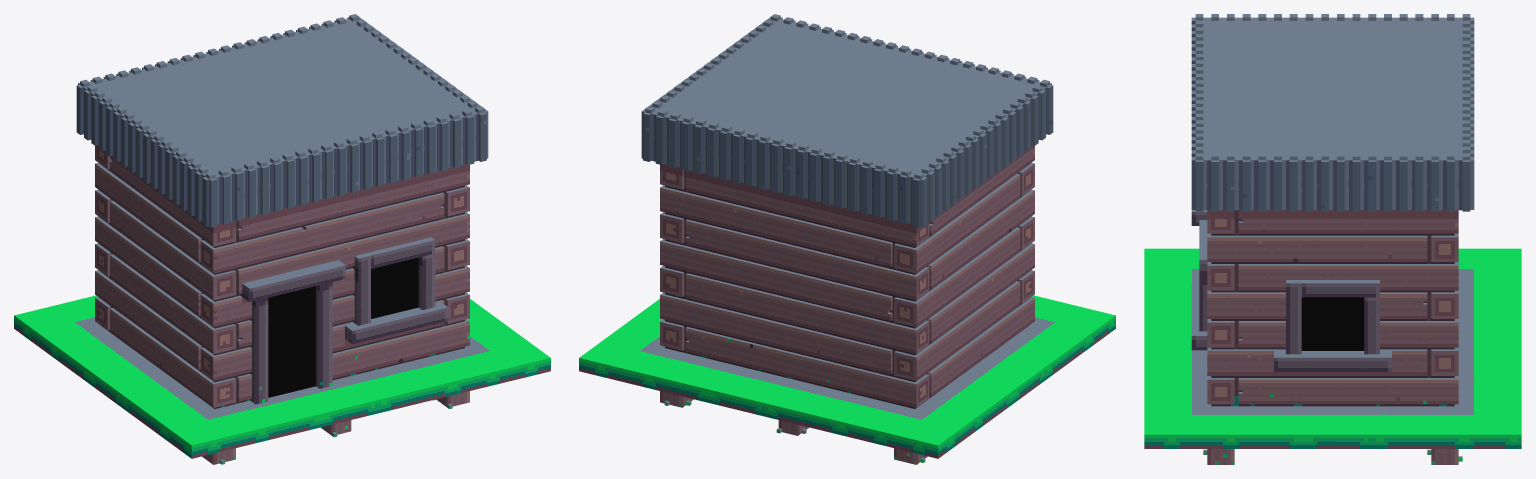
File: grave_cabinao.fezao.glb
3 views of the same model, side by side, from view 1: azimuth 30°, elevation 25°; view 2: azimuth 150°, elevation 25°; view 3: azimuth 270°, elevation 25° (orthographic). The views are drawn at different scales.
Parts seen in each view (by area): view 1: GRAVE_CABINAO; view 2: GRAVE_CABINAO; view 3: GRAVE_CABINAO.
Boxes of the visible parts, x1=… form: GRAVE_CABINAO: x1=14, y1=14, x2=550, y2=464; GRAVE_CABINAO: x1=579, y1=14, x2=1115, y2=464; GRAVE_CABINAO: x1=1144, y1=14, x2=1521, y2=464.
Bounding box in the file's own units: 7 × 5.5 × 6.
1 material, 1 textured.
